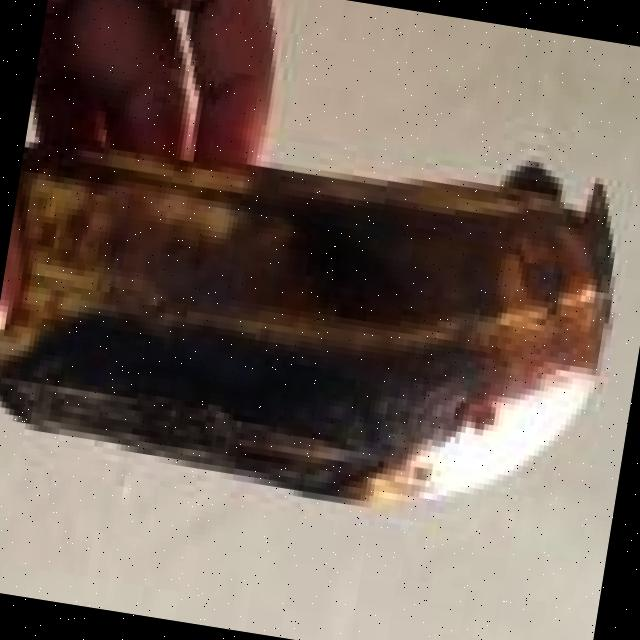Bad_Banana-0 day: (0, 147, 613, 500)
